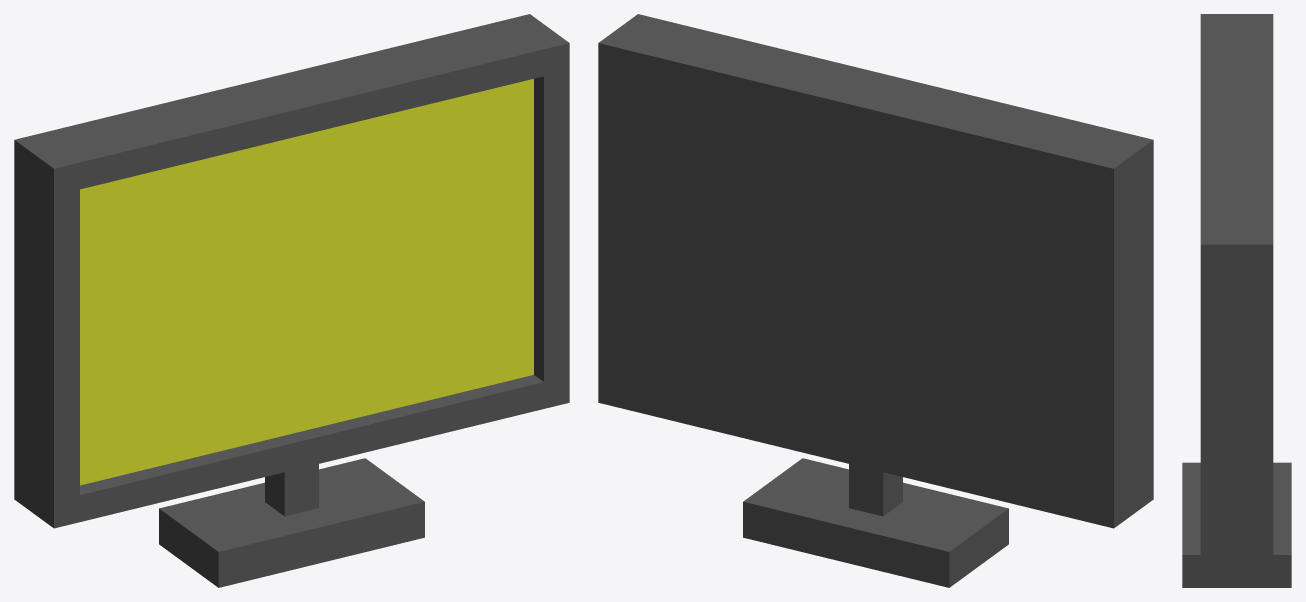
File: otoshimono.glb
3 renders of one model, left to right at view 1: azimuth 30°, elevation 25°; view 2: azimuth 150°, elevation 25°; view 3: azimuth 270°, elevation 25°, orthographic. The views are drawn at different scales.
Visible parts, largest first — view 1: otoshimono; view 2: otoshimono; view 3: otoshimono.
Part boxes in pixels (bbox=[...]): otoshimono: bbox=[14, 14, 569, 587]; otoshimono: bbox=[598, 14, 1153, 587]; otoshimono: bbox=[1182, 14, 1291, 587].
Bounding box in the file's own units: 3 × 2.5 × 0.6.
